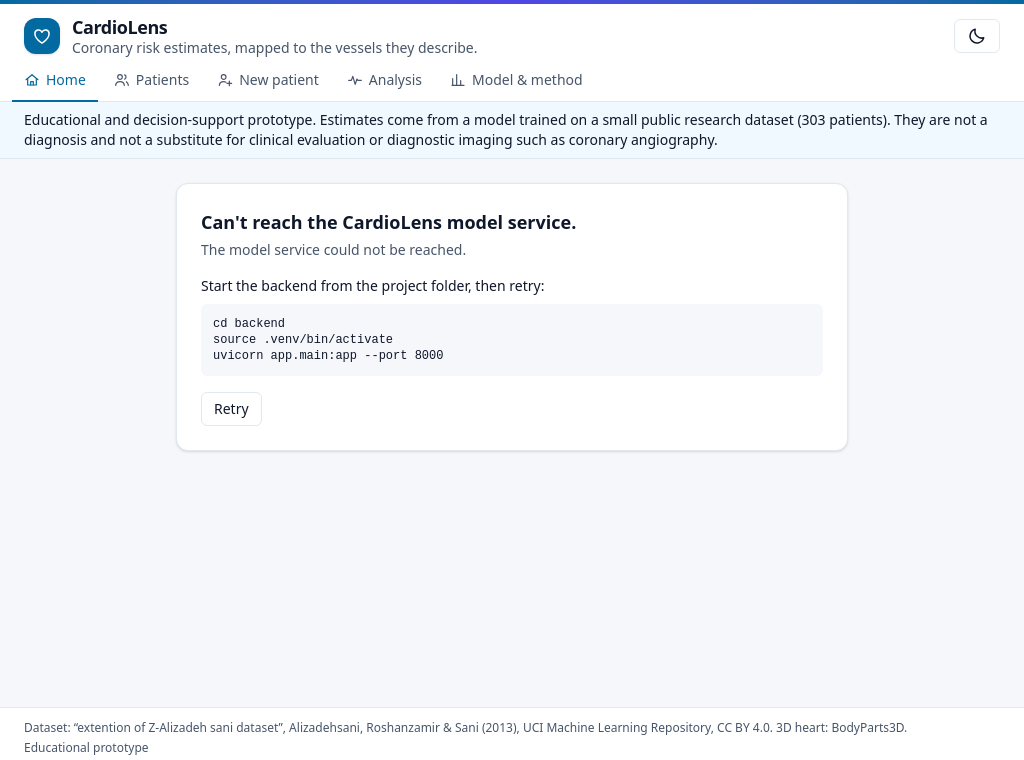
Scenario: App boot (PRODUCT_SPEC §6.1) › explains how to start the backend when it cannot be reached, and recovers on Retry
Expected: the message shows "Can't reach the CardioLens model service.", left=201, top=210, right=576, bottom=234
Expected: the message shows "uvicorn app.main:app --port 8000", left=213, top=317, right=443, bottom=363
What coordinates should you click on to do the following:
click the button "Retry"
I would click on:
 (231, 409)
Its box is left=201, top=392, right=262, bottom=426.
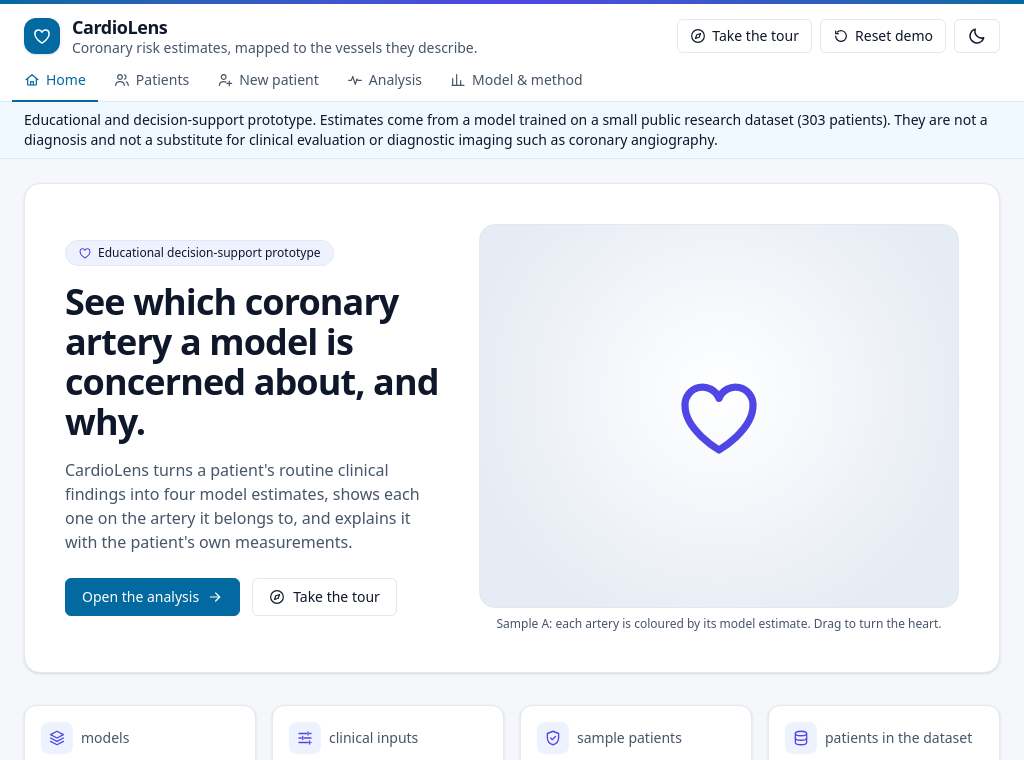
Expected: the heading "See which coronary artery a model is concerned about, and why." is shown, left=65, top=282, right=447, bottom=442
Expected: the message is gone
